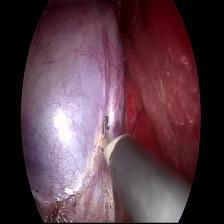Hook: (96, 111, 134, 172)
